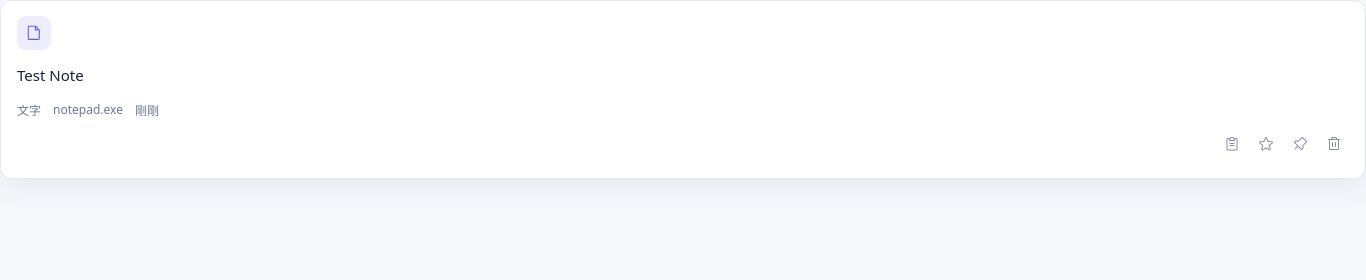
Scenario: InboxItem › shows success state after adding to board
Click the button named "加入看板": (1232, 144) [1217,129,1247,159]
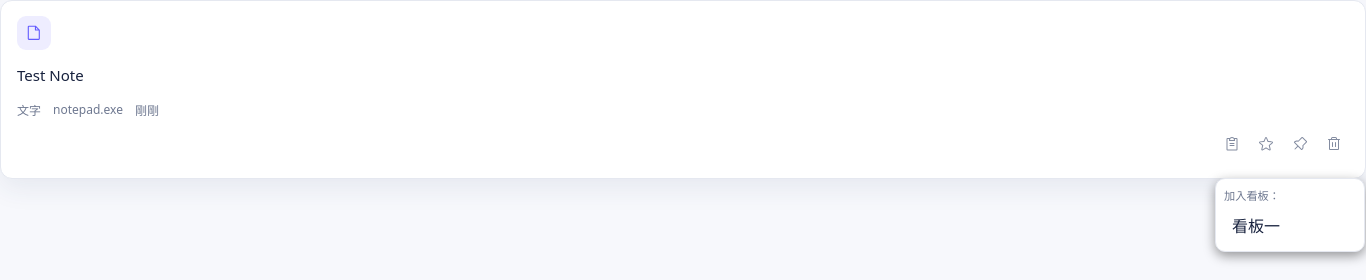
Click the menu item "看板一": (1290, 225) [1224,208,1356,243]
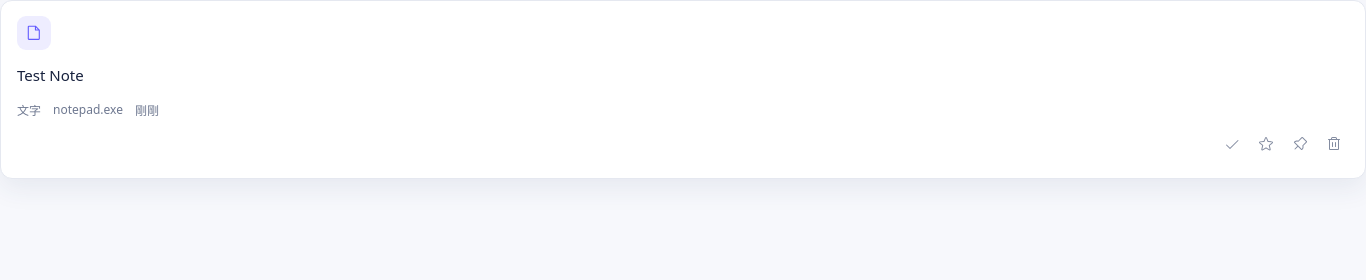
expect the button named "已加入看板" is shown: met, box [1217,129,1247,159]
